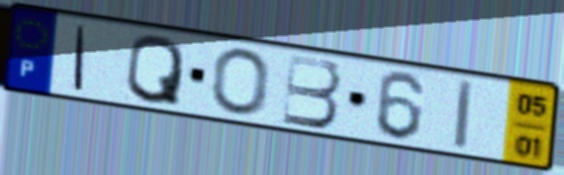6: (373, 67, 427, 144)
B: (280, 52, 345, 131)
I: (451, 77, 476, 153), (71, 22, 90, 94)
O: (210, 46, 271, 119)
Q: (122, 32, 186, 108)
